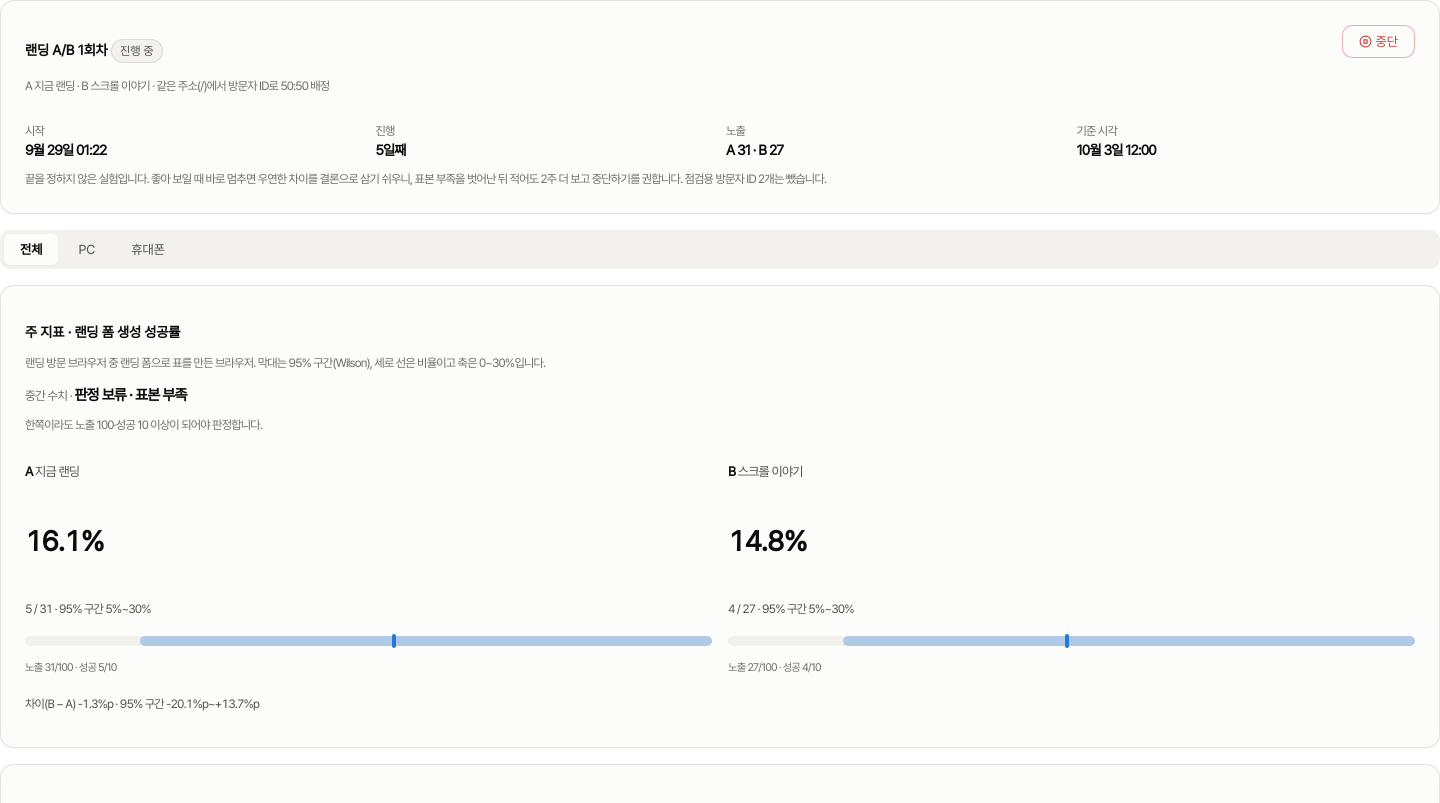
Test: 이미 중단된 실험이면 그 시각을 알려 준다
Click the button "중단": (1378, 42) left=1342, top=25, right=1415, bottom=58
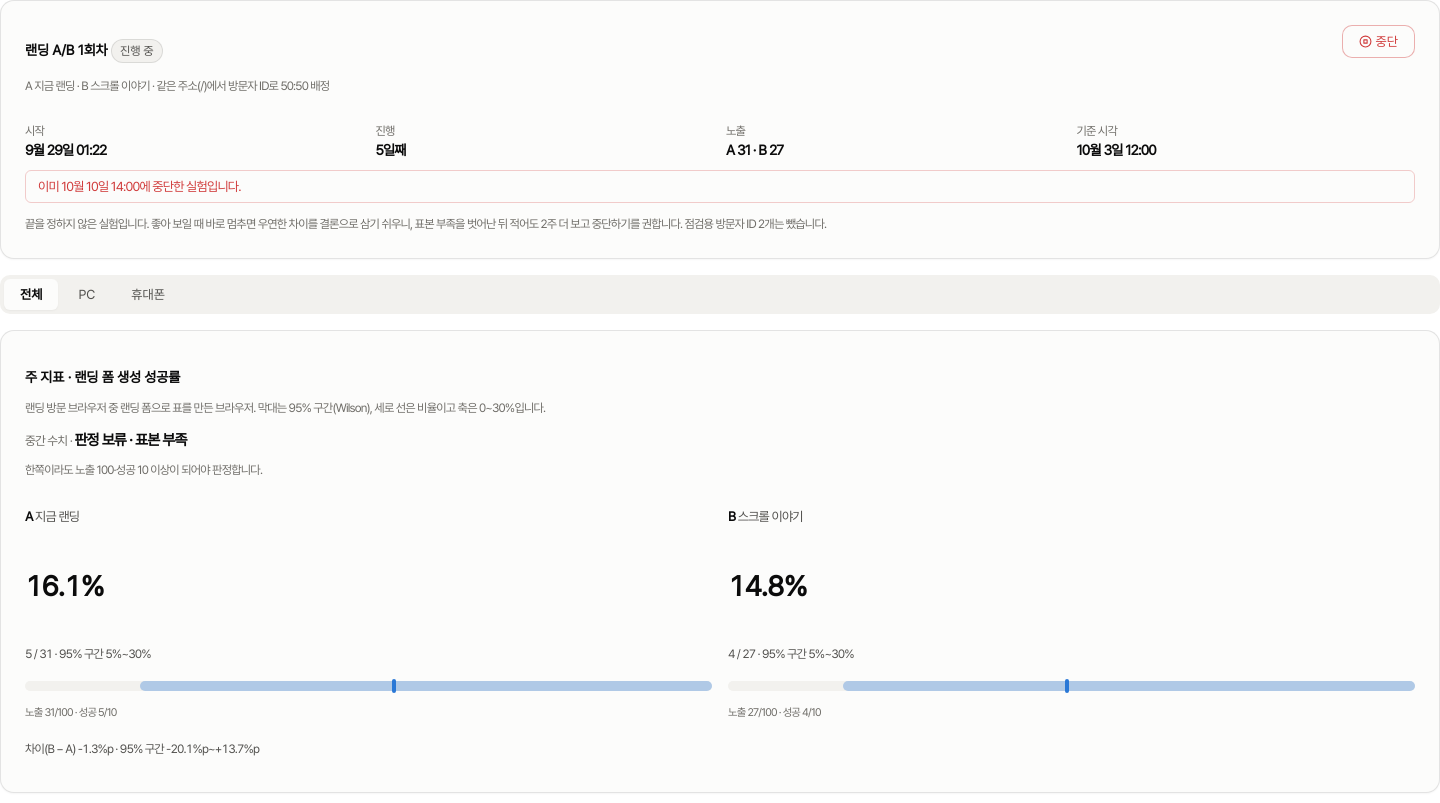
Expected: the text "이미 10월 10일 14:00에 중단한 실험입니다." is shown, left=25, top=170, right=1415, bottom=203
